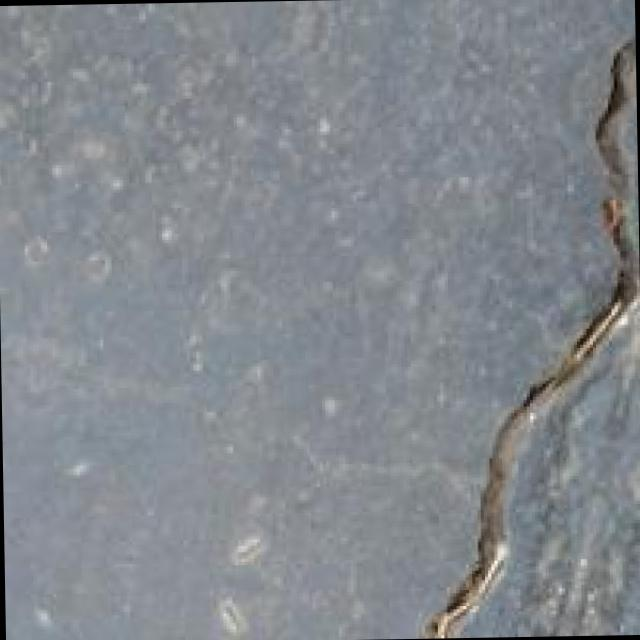crack: (360, 33, 640, 636)
